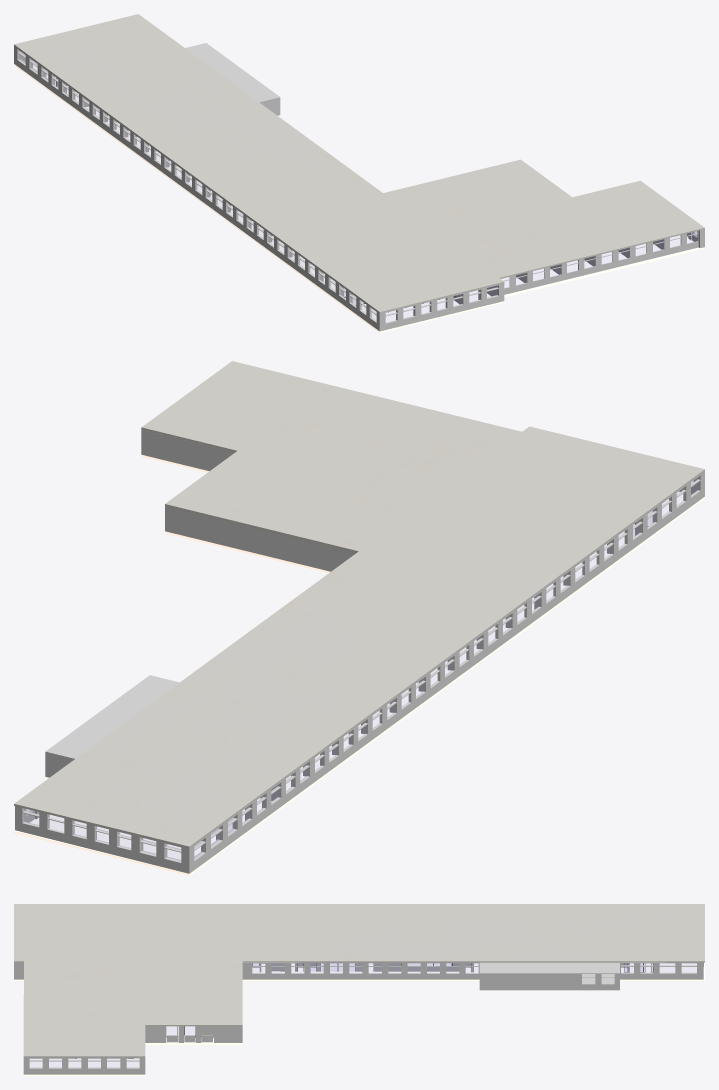
The model's file is 2020-04-07--ITP-for-threejs.glb.
3 renders of one model, top to bottom at view 1: azimuth 30°, elevation 25°; view 2: azimuth 150°, elevation 25°; view 3: azimuth 270°, elevation 25°, orthographic. The views are drawn at different scales.
Parts seen in each view (by area): view 1: ceiling.003, walls.003, floor.003, glass.003; view 2: ceiling.003, walls.003, floor.003, glass.003; view 3: ceiling.003, walls.003, floor.003, glass.003.
Boxes of the visible parts, x1,y1,x2,y2 form: ceiling.003: (14,14,704,313); walls.003: (14,43,704,331); floor.003: (14,64,704,332); glass.003: (20,53,697,321); ceiling.003: (14,361,704,848); walls.003: (15,429,704,873); floor.003: (14,454,704,875); glass.003: (24,478,697,859); ceiling.003: (14,904,704,1057); walls.003: (14,962,703,1074); floor.003: (14,962,704,1075); glass.003: (30,963,696,1066).
Bounding box in the file's own units: 59.03 × 3.56 × 113.
9 materials, 5 textured.
